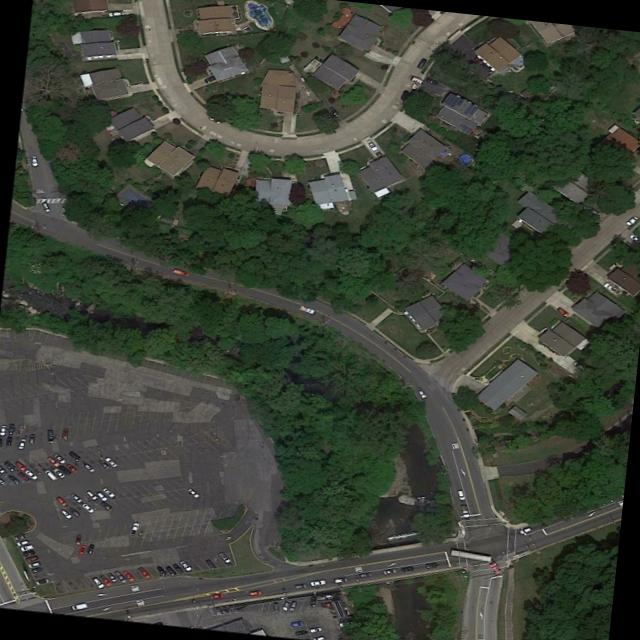large-vehicle: (449, 543, 505, 575)
small-vehicle: (603, 282, 620, 295), (43, 468, 58, 482), (99, 500, 114, 513), (24, 468, 38, 481), (68, 449, 82, 462), (104, 456, 118, 469), (624, 215, 638, 228), (370, 146, 384, 159), (58, 463, 72, 476), (172, 268, 190, 278), (114, 570, 127, 583), (179, 559, 192, 572), (99, 574, 112, 587), (408, 74, 423, 85), (299, 305, 315, 315), (82, 502, 95, 514), (165, 564, 177, 577), (138, 567, 150, 580), (102, 487, 115, 499), (187, 487, 200, 499), (17, 471, 30, 483), (572, 360, 586, 371), (46, 456, 60, 467), (122, 571, 136, 582), (68, 506, 80, 518), (219, 552, 231, 564), (5, 460, 17, 472), (53, 467, 65, 479), (416, 57, 428, 69), (93, 577, 105, 589), (172, 563, 185, 574), (53, 453, 66, 464), (7, 474, 20, 485), (556, 307, 569, 318), (130, 522, 140, 536), (309, 579, 326, 587), (70, 493, 82, 504), (56, 496, 68, 507), (60, 509, 72, 520), (205, 559, 217, 570), (14, 460, 26, 471), (98, 459, 110, 470), (156, 565, 167, 577), (328, 106, 339, 118), (628, 233, 640, 244), (459, 506, 470, 518), (416, 387, 427, 399), (337, 620, 353, 628), (71, 603, 87, 611), (35, 577, 49, 586), (97, 491, 108, 502), (20, 544, 35, 552), (83, 463, 95, 473), (204, 74, 216, 84), (25, 554, 38, 563), (210, 593, 224, 601), (383, 568, 397, 576), (67, 463, 78, 473), (426, 76, 437, 86), (41, 202, 51, 213), (281, 600, 291, 611), (17, 438, 26, 450), (29, 156, 38, 168), (308, 596, 317, 608), (14, 533, 27, 541), (291, 620, 304, 628), (309, 626, 322, 634), (107, 572, 117, 582), (86, 491, 97, 500), (294, 629, 308, 636), (334, 577, 348, 584), (16, 539, 28, 547), (23, 549, 35, 557), (519, 527, 531, 535), (249, 590, 262, 597), (366, 139, 375, 149), (74, 535, 82, 546), (87, 543, 95, 554), (289, 600, 297, 611), (457, 490, 465, 501), (28, 561, 40, 568), (62, 427, 69, 439), (31, 567, 43, 574), (8, 423, 15, 435), (108, 11, 122, 17), (426, 562, 438, 569), (272, 602, 279, 614), (359, 572, 372, 578), (400, 566, 413, 572), (79, 545, 86, 556), (474, 57, 483, 65), (47, 430, 54, 440), (0, 426, 7, 436), (320, 602, 331, 608), (6, 437, 12, 447), (295, 584, 307, 589), (29, 435, 35, 444), (0, 466, 5, 474), (0, 478, 5, 486), (0, 439, 2, 449)
